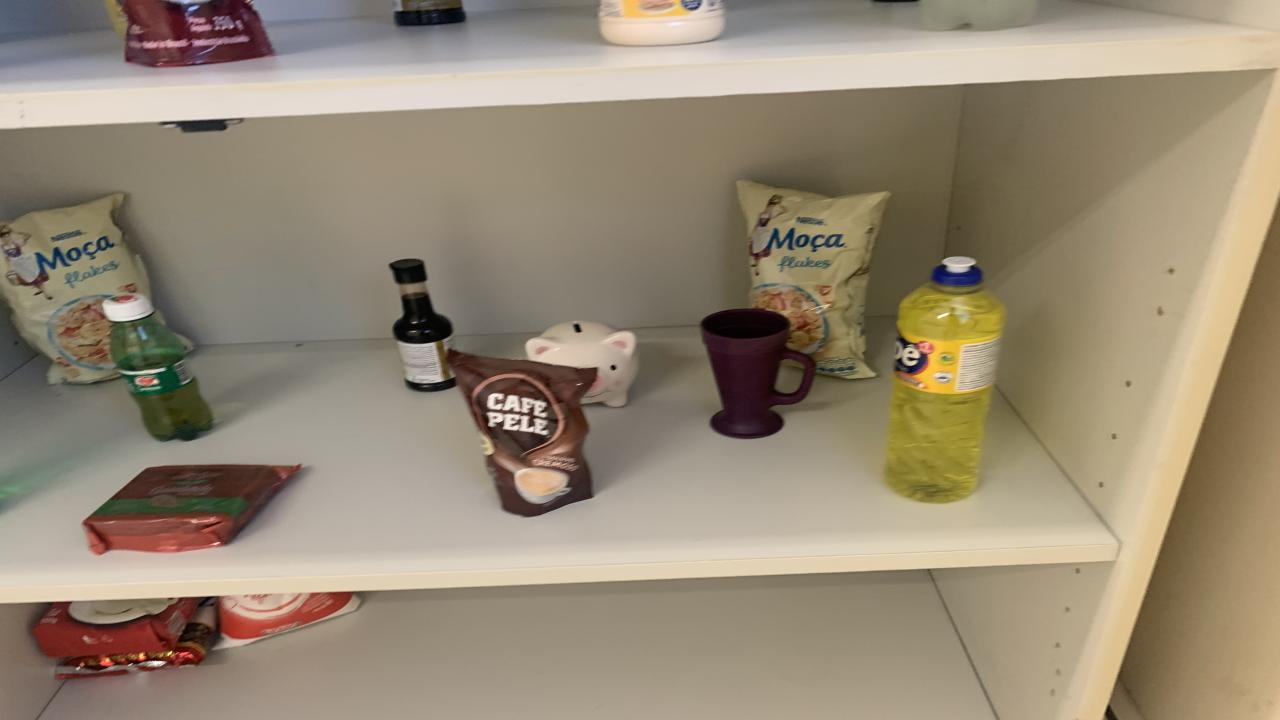Coffee-Pantry_Items: (448, 351, 595, 516)
Detergent-Cleanup_Items: (885, 257, 1005, 502)
English_Sauce-Pantry_Items: (390, 259, 455, 392), (392, 0, 465, 26)
Flakes-Snacks: (738, 180, 890, 379), (0, 193, 150, 384)
Guarana-Drinks: (102, 294, 212, 441)
Guava-Snacks: (82, 465, 300, 555)
Mayonnaise-Pantry_Items: (598, 0, 725, 45)
Pig_Safe-Miscellaneous: (525, 321, 640, 407)
Soda-Drinks: (920, 0, 1038, 30)
Tomato_Sauce-Pantry_Items: (110, 0, 275, 68)
